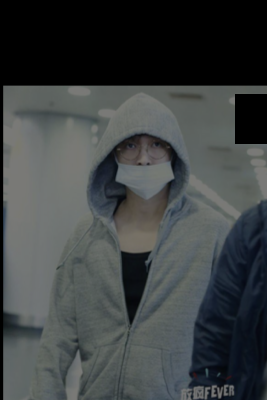mask_weared_incorrect: (112, 135, 175, 199)
